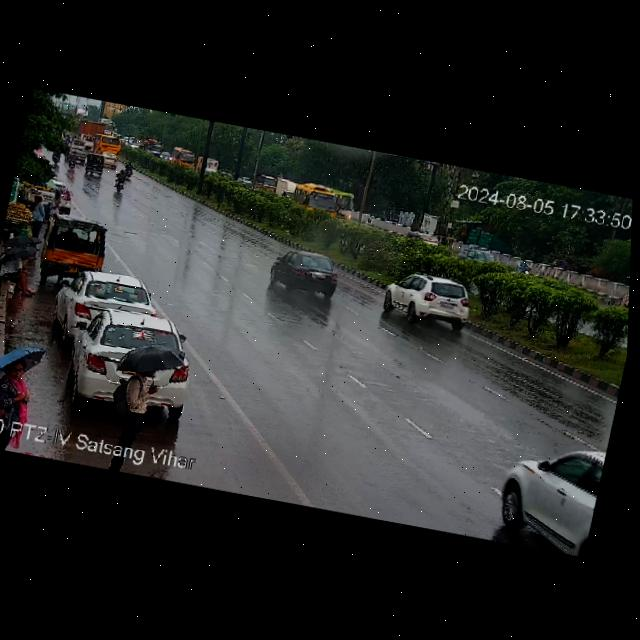bus: (290, 183, 337, 214), (91, 133, 125, 160), (334, 192, 360, 221), (253, 173, 278, 192)
car: (63, 312, 210, 418), (491, 440, 601, 557), (52, 265, 161, 338), (382, 267, 482, 330), (39, 214, 115, 282), (267, 247, 342, 299), (459, 246, 501, 270), (403, 226, 443, 250), (78, 151, 107, 178), (167, 145, 198, 167)
motorcycle: (105, 164, 135, 193), (60, 145, 85, 171), (118, 161, 142, 181)
person: (106, 357, 167, 443), (0, 353, 39, 425), (0, 255, 42, 298)
truck: (25, 195, 49, 234), (77, 118, 105, 138), (140, 138, 164, 158), (274, 178, 296, 198)
